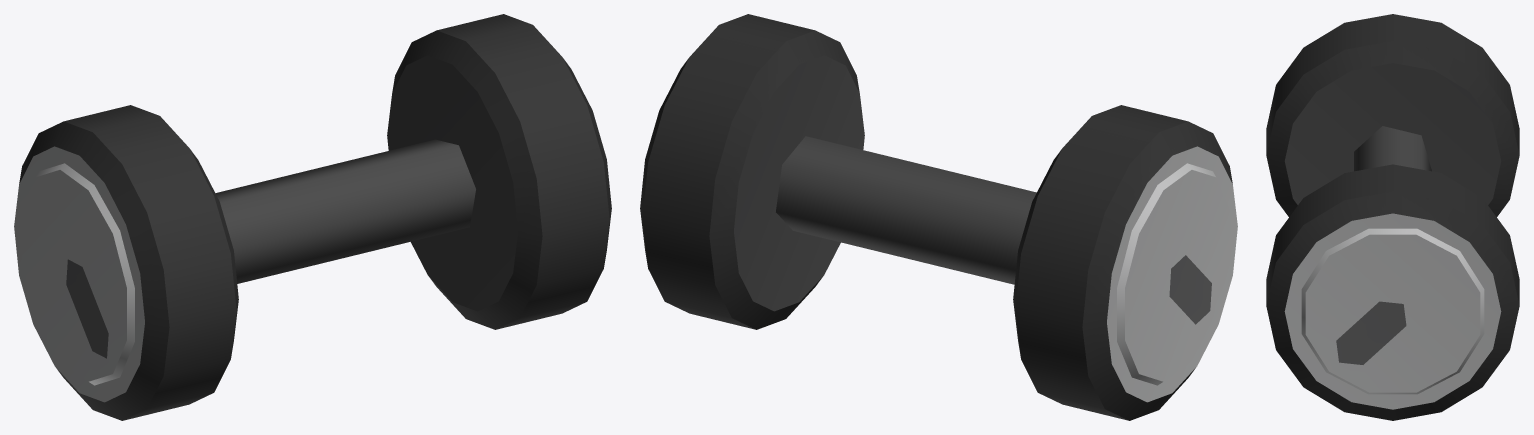
Rendered from Delivery_drone_008_wheels_002.fbx.
3 views of the same model, side by side, from view 1: azimuth 30°, elevation 25°; view 2: azimuth 150°, elevation 25°; view 3: azimuth 270°, elevation 25° (orthographic). The views are drawn at different scales.
Parts seen in each view (by area): view 1: Delivery_drone_008_wheels_002; view 2: Delivery_drone_008_wheels_002; view 3: Delivery_drone_008_wheels_002.
Boxes of the visible parts, x1,y1,x2,y2 form: Delivery_drone_008_wheels_002: [14, 14, 611, 420]; Delivery_drone_008_wheels_002: [640, 14, 1237, 420]; Delivery_drone_008_wheels_002: [1266, 14, 1519, 420].
Bounding box in the file's own units: 53.72 × 29.88 × 29.88.
